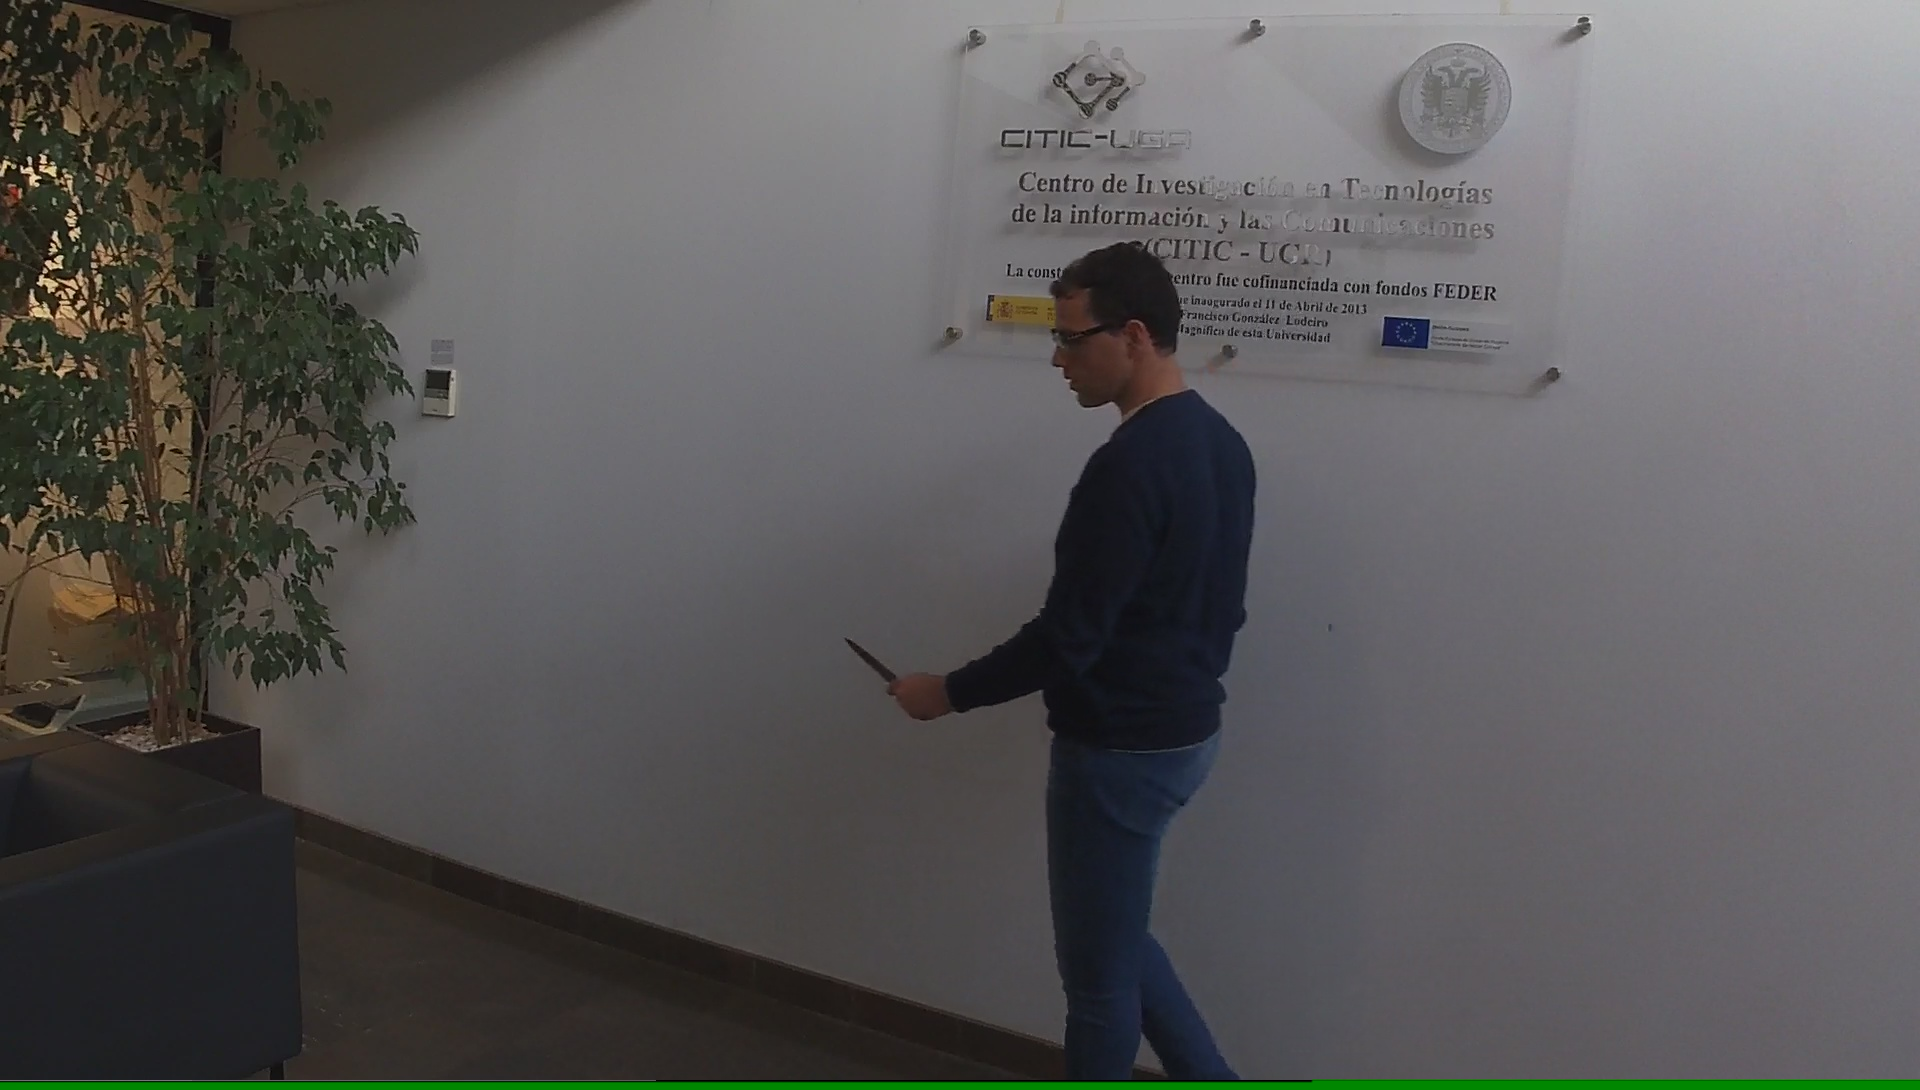knife: (837, 629, 924, 713)
